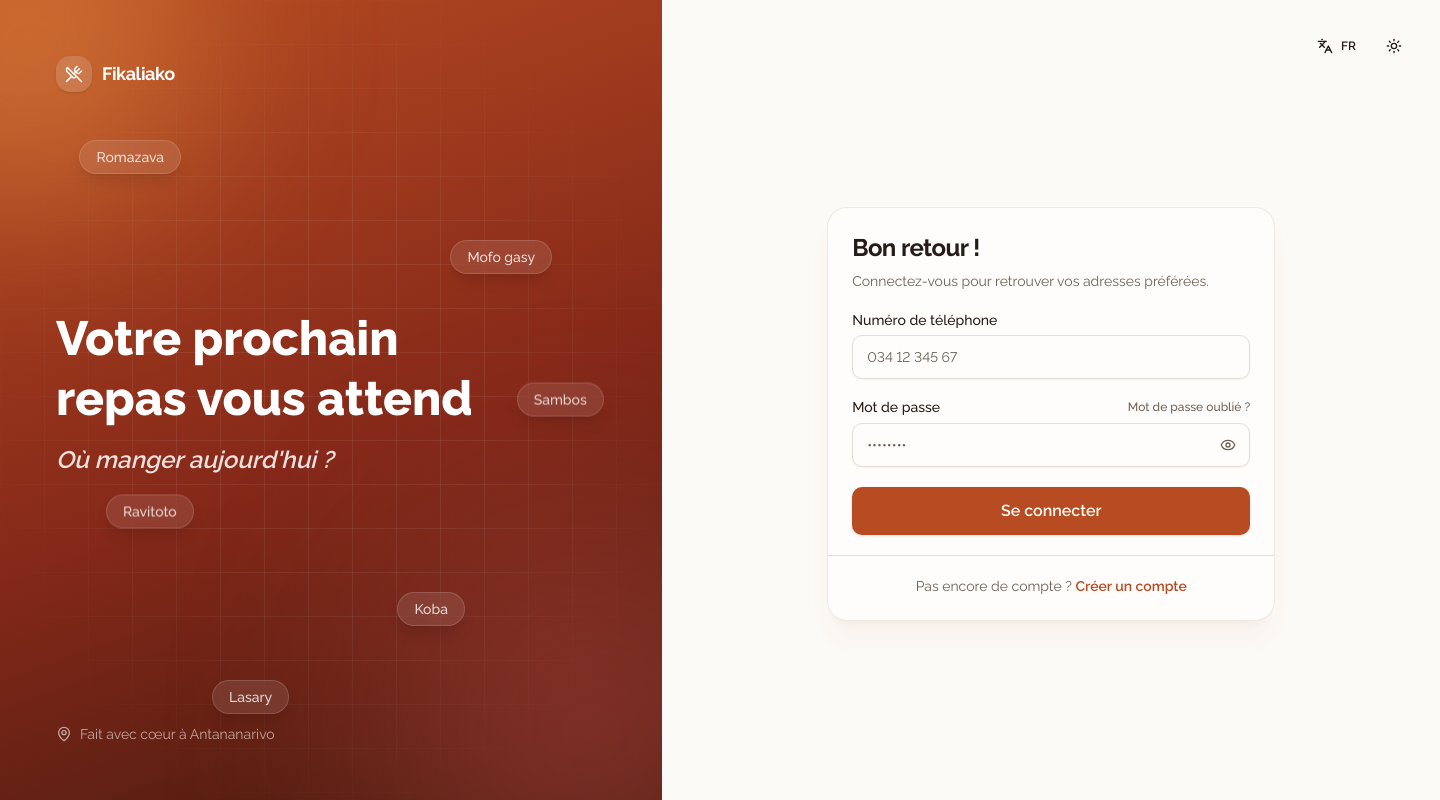
Test: login › rejects an invalid phone client-side, without any request
Type "12" into the field named "phone".
click(1051, 357); type("12")  # box [852,335,1250,379]
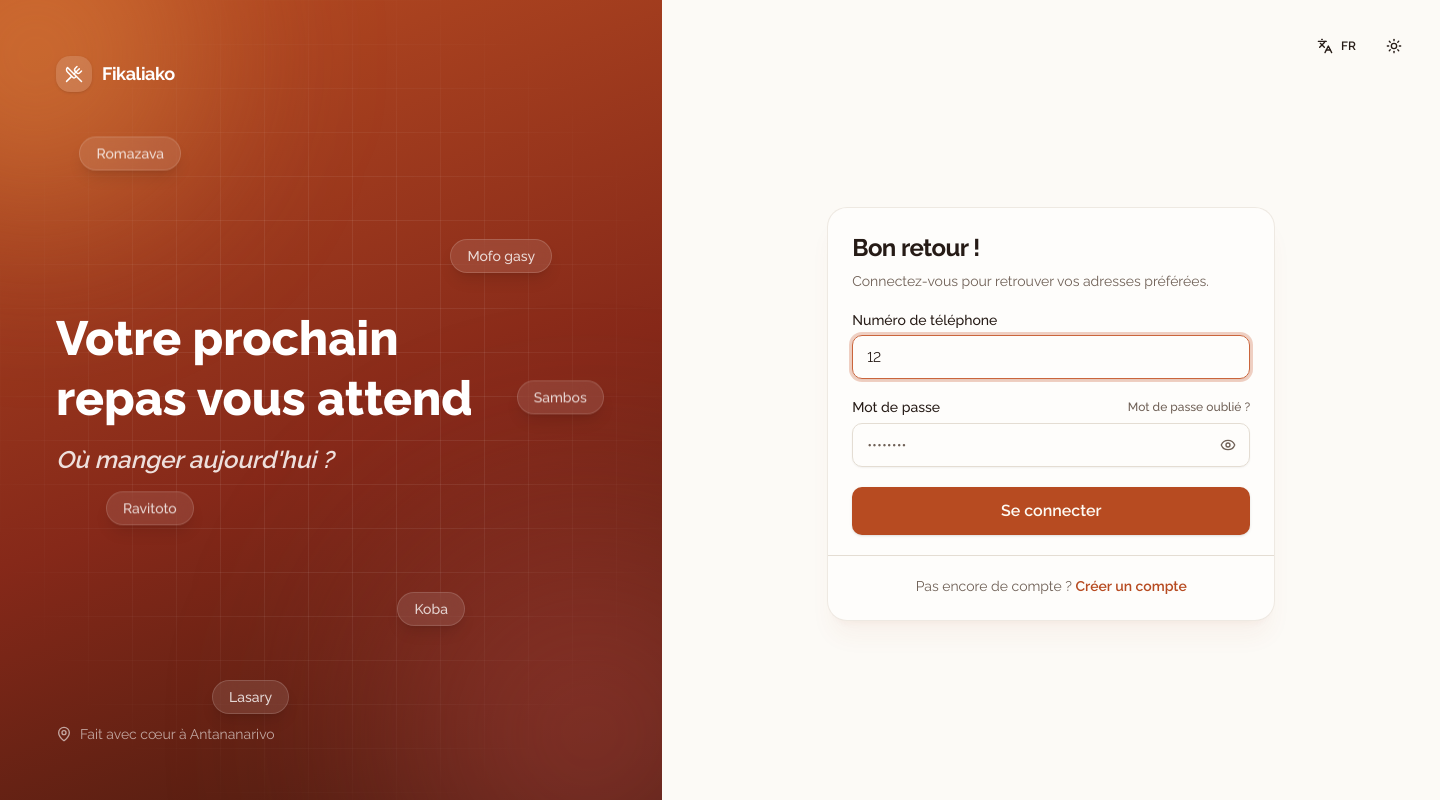
Type "whatever" into the password field named "password".
click(1051, 445); type("whatever")  # box [852,423,1250,467]
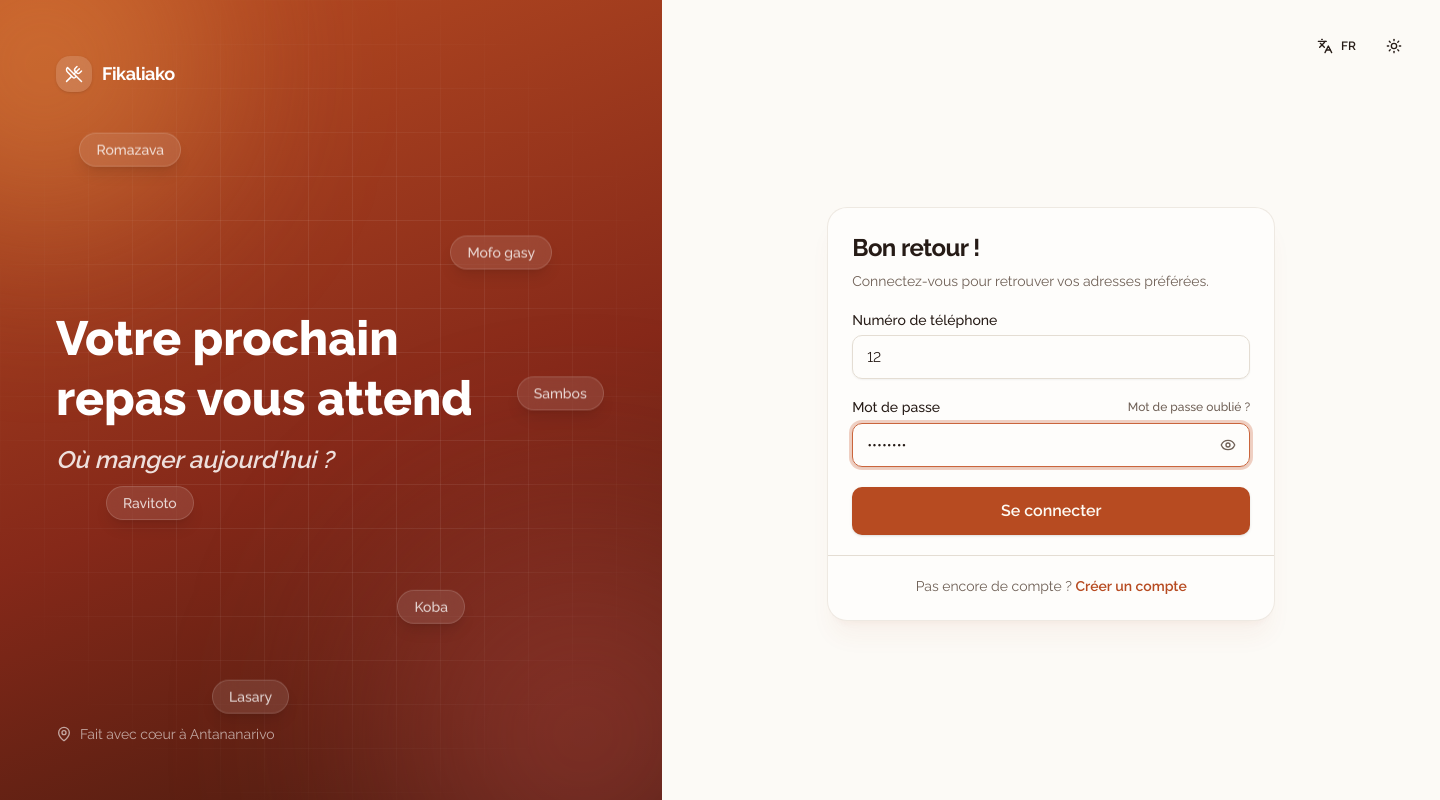
Click the button "Se connecter".
click(1051, 511)  # box [852,487,1250,535]
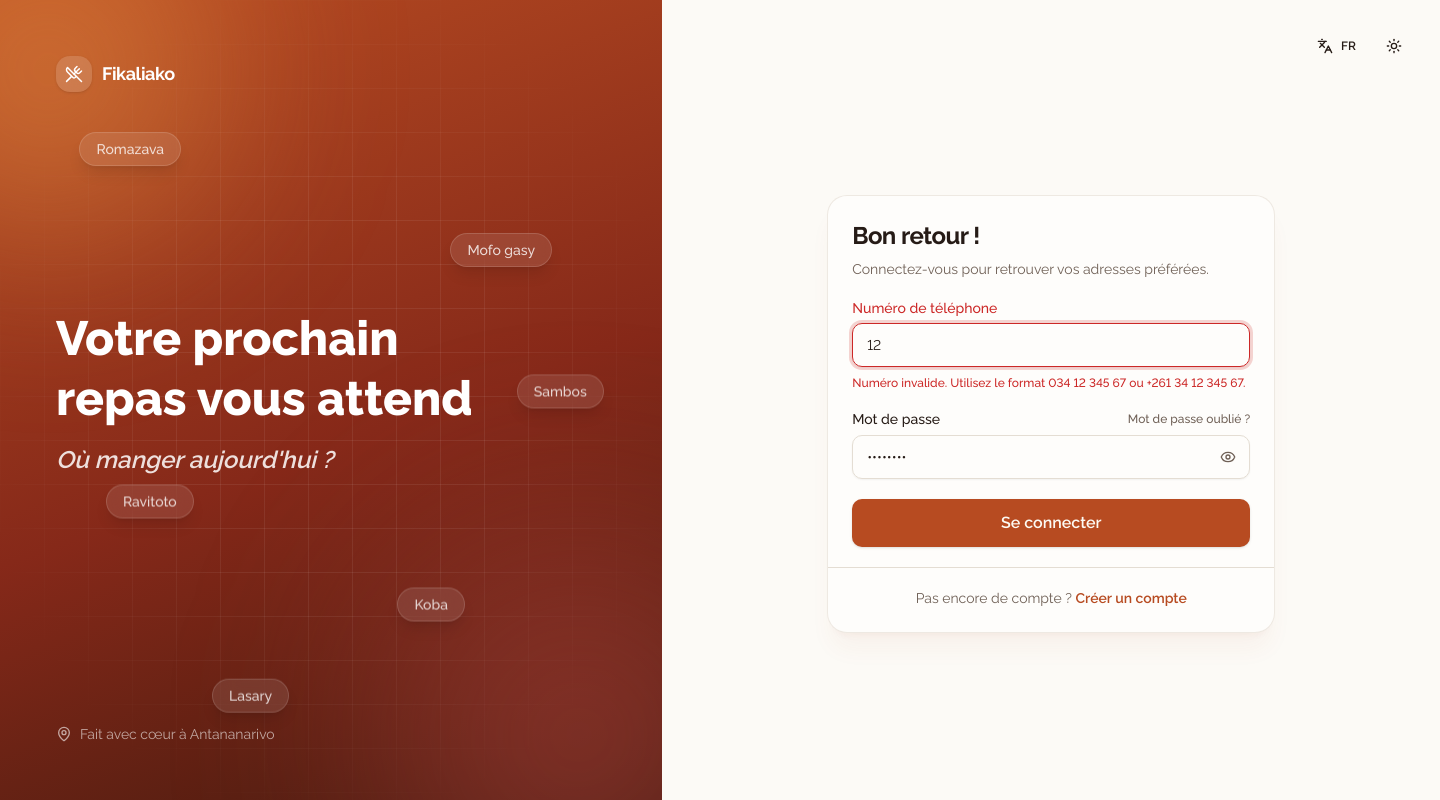
Check: the text "Numéro invalide" is shown, box [852,376,1245,390]
